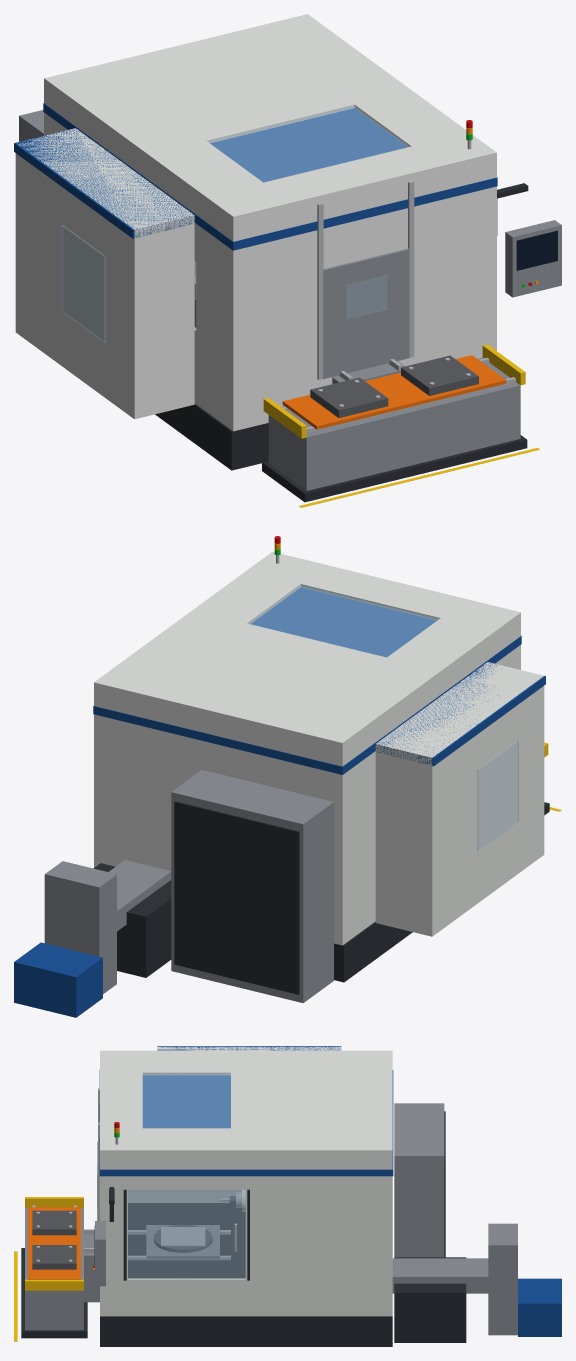
The model's file is hmc_2apc.glb.
3 renders of one model, top to bottom at view 1: azimuth 30°, elevation 25°; view 2: azimuth 150°, elevation 25°; view 3: azimuth 270°, elevation 25°, orthographic. The views are drawn at different scales.
Parts seen in each view (by area): view 1: enclosure__white, tool_magazine__white, apc_base__grey, enclosure__blue, pallet_door__grey, enclosure__glass, tool_magazine__blue, tool_magazine__glass, apc_carriage__orange, enclosure__dark, peripherals__grey, apc_base__dark (+8 smaller); view 2: enclosure__white, tool_magazine__white, peripherals__dark, peripherals__grey, enclosure__blue, enclosure__glass, peripherals__blue, tool_magazine__glass, tool_magazine__blue, enclosure__dark; view 3: enclosure__white, enclosure__glass, peripherals__grey, enclosure__dark, enclosure__blue, bed__dark, peripherals__dark, apc_base__grey, peripherals__blue, apc_carriage__orange, apc_base__yellow, table__grey (+8 smaller).
Boxes of the visible parts, x1,y1,x2,y2 form: enclosure__white: (44, 14, 496, 431); tool_magazine__white: (15, 128, 194, 419); apc_base__grey: (268, 357, 520, 490); enclosure__blue: (43, 103, 497, 250); pallet_door__grey: (323, 248, 409, 378); enclosure__glass: (194, 106, 409, 329); tool_magazine__blue: (14, 128, 194, 238); tool_magazine__glass: (61, 225, 105, 342); apc_carriage__orange: (282, 355, 506, 429); enclosure__dark: (155, 403, 268, 470); peripherals__grey: (19, 110, 561, 297); apc_base__dark: (262, 435, 527, 502); enclosure__white: (94, 551, 520, 945); tool_magazine__white: (375, 662, 544, 936); peripherals__dark: (93, 801, 299, 994); peripherals__grey: (44, 770, 333, 1003); enclosure__blue: (93, 587, 521, 774); enclosure__glass: (248, 585, 438, 657); peripherals__blue: (14, 942, 102, 1017); tool_magazine__glass: (477, 740, 518, 851); tool_magazine__blue: (376, 662, 545, 766); enclosure__dark: (334, 921, 412, 982); enclosure__white: (100, 1050, 392, 1316); enclosure__glass: (128, 1073, 245, 1278); peripherals__grey: (95, 1103, 517, 1335); enclosure__dark: (100, 1189, 392, 1346); enclosure__blue: (99, 1070, 393, 1176); bed__dark: (128, 1203, 245, 1278); peripherals__dark: (109, 1111, 466, 1342); apc_base__grey: (25, 1208, 99, 1330); peripherals__blue: (518, 1278, 561, 1336); apc_carriage__orange: (28, 1207, 80, 1279); apc_base__yellow: (25, 1197, 83, 1290); table__grey: (146, 1225, 219, 1259).
Size of the model in its own units: 4.72 by 3.26 by 7.45.
